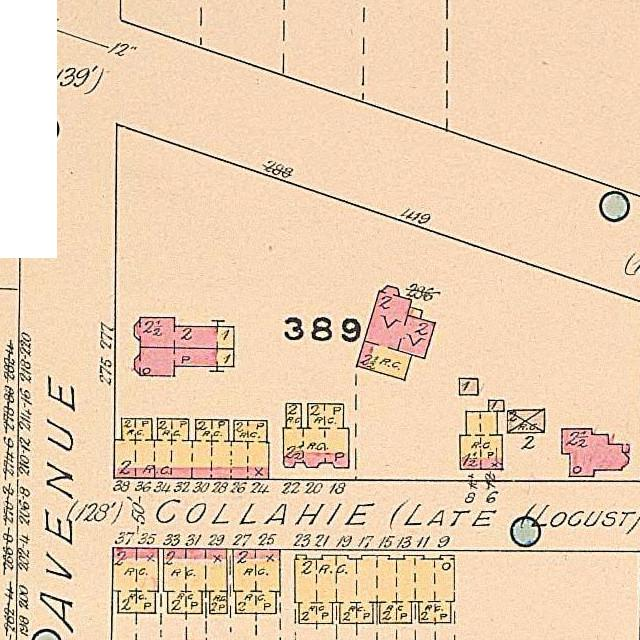building-footprints: (294, 555, 454, 624), (114, 419, 268, 479), (356, 285, 435, 380), (283, 404, 349, 468), (163, 549, 227, 614), (561, 429, 629, 476), (459, 400, 504, 470), (134, 317, 234, 348), (232, 549, 280, 613), (112, 548, 158, 613), (134, 348, 234, 376), (507, 411, 544, 432), (459, 378, 478, 395), (407, 307, 422, 319)
